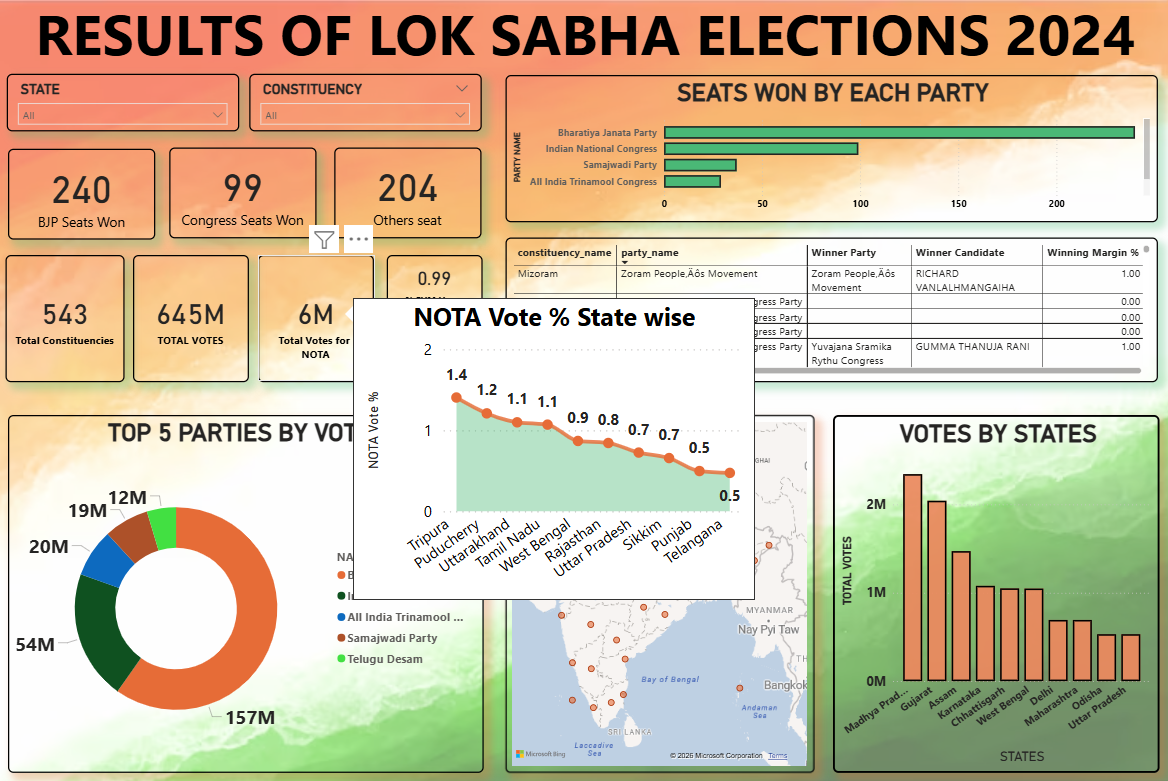

The dashboard page shown, as its layout file describes it:
{"tool":"powerbi","page":{"name":"DASHBOARD","canvas":[1500,1032],"ordinal":0},"visuals":[{"type":"textbox","box":[0,0,1499.7,107.2],"z":0},{"type":"slicer","fields":{"Values":["election_result_2024.state_name"]},"box":[11.7,107.2,296.6,73.7],"z":1000},{"type":"slicer","fields":{"Values":["election_result_2024.constituency_name"]},"box":[320,107.2,296.6,73.7],"z":2000},{"type":"card","fields":{"Values":["Table.BJP Seats Won"]},"box":[12,202,188,116],"z":3000},{"type":"card","fields":{"Values":["Table.Congress Seats Won"]},"box":[218,201.1,187.7,115.6],"z":4000},{"type":"card","fields":{"Values":["Table.Others seat"]},"box":[429,201.1,187.7,115.6],"z":5000},{"type":"card","fields":{"Values":["Table.Total Constituencies"]},"box":[10,338,152,162],"z":6000},{"type":"card","fields":{"Values":["Table.TOTAL VOTES"]},"box":[172,338,148,162],"z":7000},{"type":"card","fields":{"Values":["Table.Total Votes for NOTA"]},"box":[332,338,148,162],"z":8000},{"type":"card","fields":{"Values":["Table.% EVM Votes"]},"box":[496,338,122,74],"z":9000},{"type":"card","fields":{"Values":["Table.% Postal Votes"]},"box":[496,420,122,80],"z":10000},{"type":"barChart","title":"SEATS WON BY EACH PARTY","fields":{"Category":["election_result_2024.party_name"],"Y":["Table.Seats Won"]},"box":[648.2,108,832.9,188.2],"z":11000},{"type":"tableEx","fields":{"Values":["election_result_2024.constituency_name","election_result_2024.party_name","Table.Winner Party","Table.Winner Candidate","Table.Winning Margin %"]},"box":[648.2,315.4,832.9,184.7],"z":12000},{"type":"map","fields":{"Category":["election_result_2024.state_name"]},"box":[648.5,543,394.3,456.5],"z":13000},{"type":"donutChart","title":"TOP 5 PARTIES BY VOTES","fields":{"Y":["Table.TOTAL VOTES BY PARTY"],"Category":["election_result_2024.party_name"]},"box":[12.1,543,607,456.5],"z":14000},{"type":"columnChart","title":" VOTES BY STATES","fields":{"Category":["election_result_2024.state_name"],"Y":["Table.TOTAL VOTES"]},"box":[1065.2,543,416.7,456.5],"z":15000}]}

Visuals, with their boxes in screenshot pixels (x1, y1, x2, y2), scaled from the page's 1500x1032 canvas onto the 1168x781 screenshot:
textbox: (x1=0, y1=0, x2=1167, y2=81)
slicer - election_result_2024.state_name: (x1=9, y1=81, x2=240, y2=137)
slicer - election_result_2024.constituency_name: (x1=249, y1=81, x2=480, y2=137)
card - Table.BJP Seats Won: (x1=9, y1=153, x2=156, y2=241)
card - Table.Congress Seats Won: (x1=170, y1=152, x2=316, y2=240)
card - Table.Others seat: (x1=334, y1=152, x2=480, y2=240)
card - Table.Total Constituencies: (x1=8, y1=256, x2=126, y2=378)
card - Table.TOTAL VOTES: (x1=134, y1=256, x2=249, y2=378)
card - Table.Total Votes for NOTA: (x1=259, y1=256, x2=374, y2=378)
card - Table.% EVM Votes: (x1=386, y1=256, x2=481, y2=312)
card - Table.% Postal Votes: (x1=386, y1=318, x2=481, y2=378)
"SEATS WON BY EACH PARTY" barChart: (x1=505, y1=82, x2=1153, y2=224)
tableEx - election_result_2024.constituency_name x election_result_2024.party_name: (x1=505, y1=239, x2=1153, y2=378)
map - election_result_2024.state_name: (x1=505, y1=411, x2=812, y2=756)
"TOP 5 PARTIES BY VOTES" donutChart: (x1=9, y1=411, x2=482, y2=756)
" VOTES BY STATES" columnChart: (x1=829, y1=411, x2=1154, y2=756)
